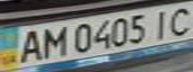0: (69, 20, 93, 54), (109, 15, 133, 47)
4: (90, 17, 115, 51)
5: (127, 11, 154, 45)
A: (15, 27, 48, 63)
C: (163, 3, 193, 37)
I: (148, 7, 175, 39)
M: (36, 24, 69, 58)
